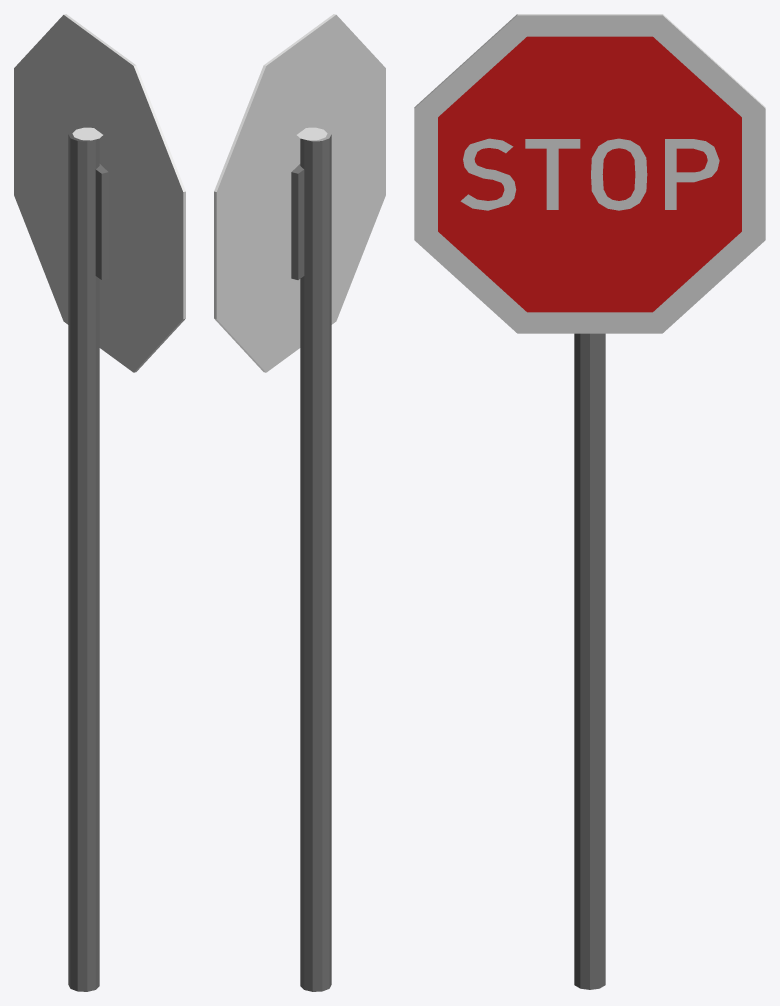
Rendered from env_17.glb.
3 views of the same model, side by side, from view 1: azimuth 30°, elevation 25°; view 2: azimuth 150°, elevation 25°; view 3: azimuth 270°, elevation 25° (orthographic). The views are drawn at different scales.
Visible parts, largest first — view 1: stop_sign; view 2: stop_sign; view 3: stop_sign.
Part boxes in pixels (bbox=[...]): stop_sign: bbox=[14, 14, 185, 991]; stop_sign: bbox=[214, 14, 385, 991]; stop_sign: bbox=[414, 14, 765, 989].
Size of the model in its own units: 0.0431 by 1.24 by 0.4047.
1 material, 1 textured.
